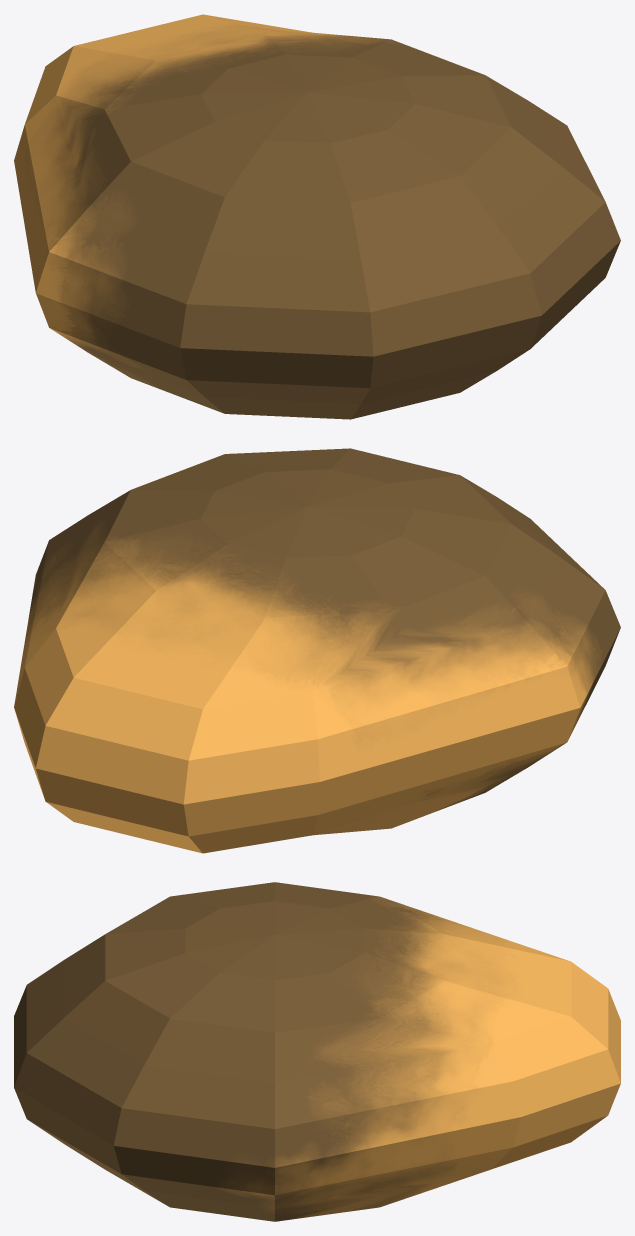
The model's file is PotatoSeed_.fbx.
3 renders of one model, top to bottom at view 1: azimuth 30°, elevation 25°; view 2: azimuth 150°, elevation 25°; view 3: azimuth 270°, elevation 25°, orthographic. The views are drawn at different scales.
Parts seen in each view (by area): view 1: pSphere1; view 2: pSphere1; view 3: pSphere1.
Boxes of the visible parts, x1=… form: pSphere1: x1=14, y1=14, x2=620, y2=419; pSphere1: x1=14, y1=448, x2=620, y2=853; pSphere1: x1=14, y1=882, x2=620, y2=1221.
Size of the model in its own units: 4.28 by 2.02 by 4.74.
